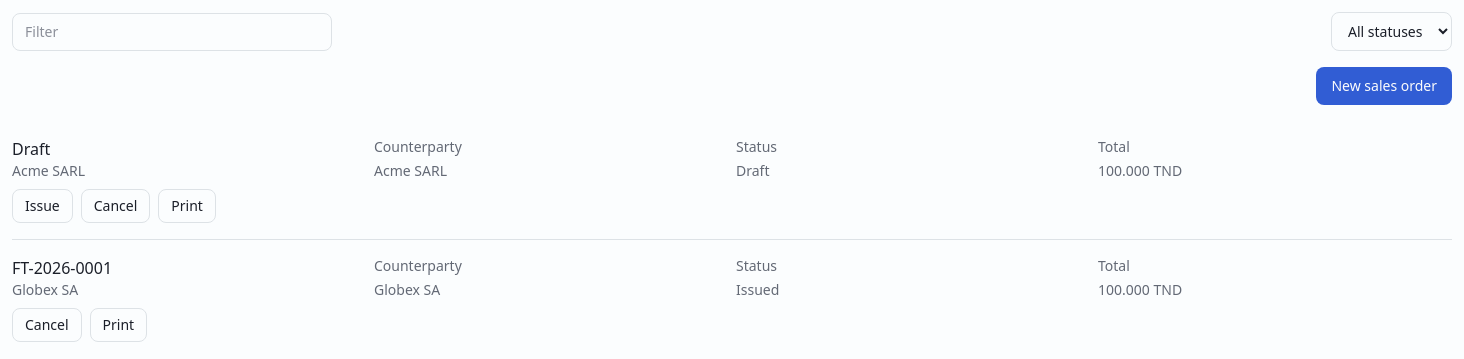
it: DocumentList filtering › clear resets the status filter and restores every row
The image size is (1464, 359).
Select "Issued" in the dropdown named "Filter by status" at (1392,32), box x1=1331 y1=12 x2=1452 y2=51
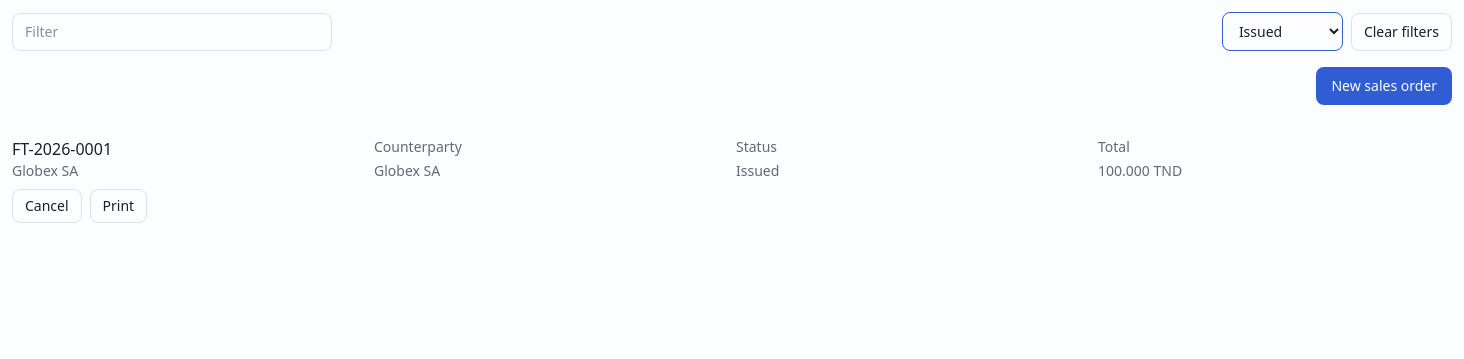
Expected: the text "Acme SARL" is gone
Click the button "Clear filters".
click(1401, 32)  # box x1=1351 y1=12 x2=1452 y2=50
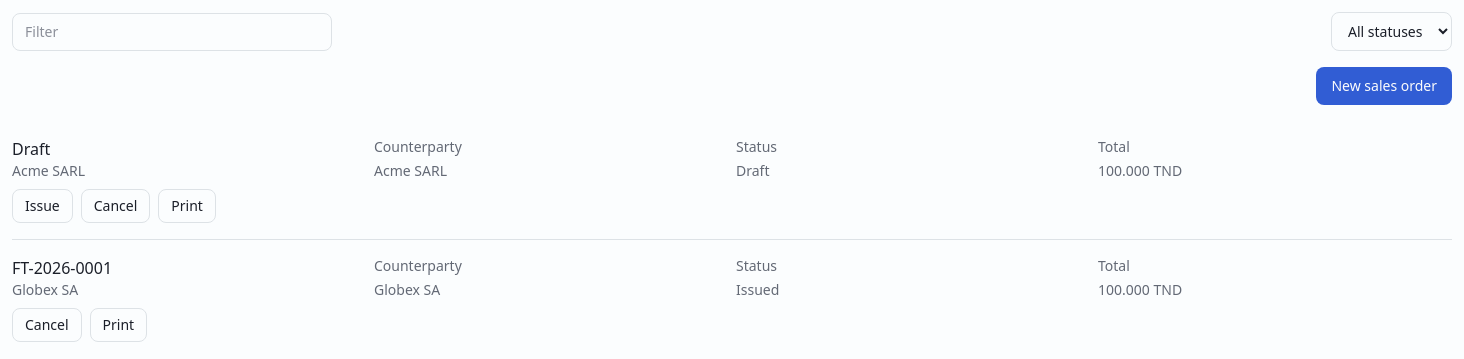
Expected: the text "Acme SARL" is shown 2 times, x1=12 y1=161 x2=85 y2=180; x1=374 y1=161 x2=447 y2=180
Expected: the text "Globex SA" is shown 2 times, x1=12 y1=280 x2=78 y2=299; x1=374 y1=280 x2=440 y2=299
